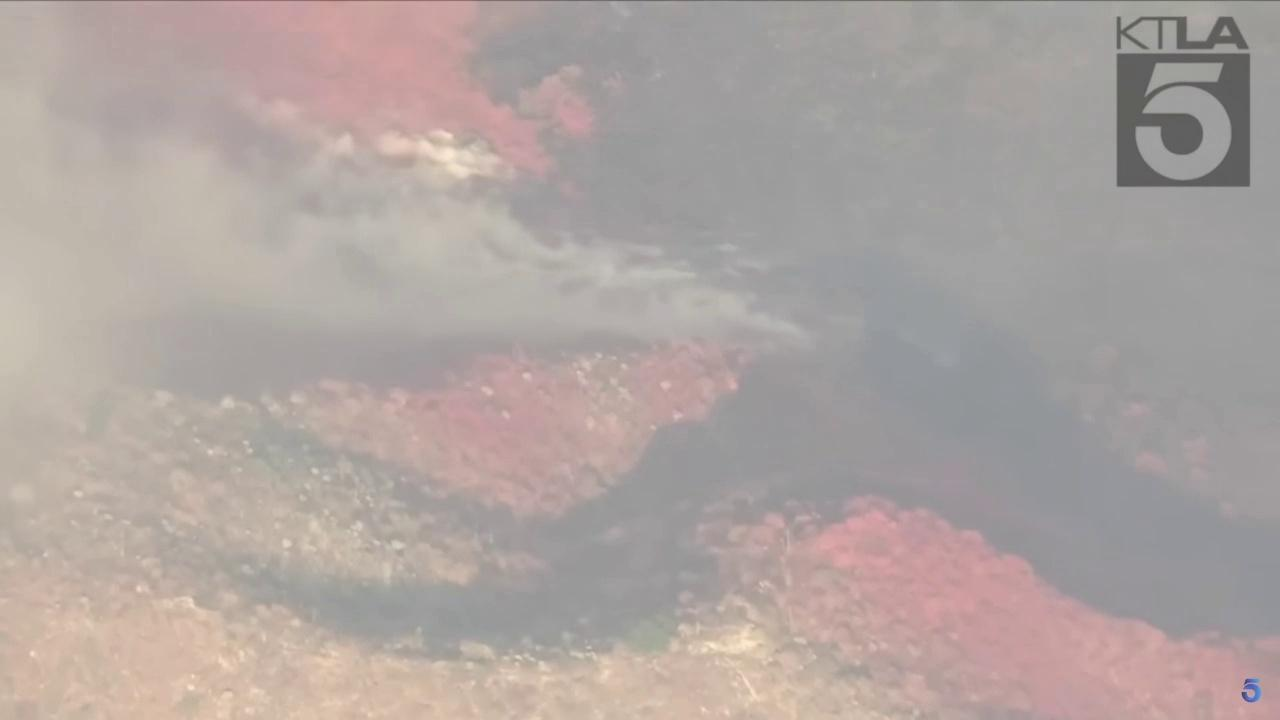smoke: (0, 0, 815, 551)
